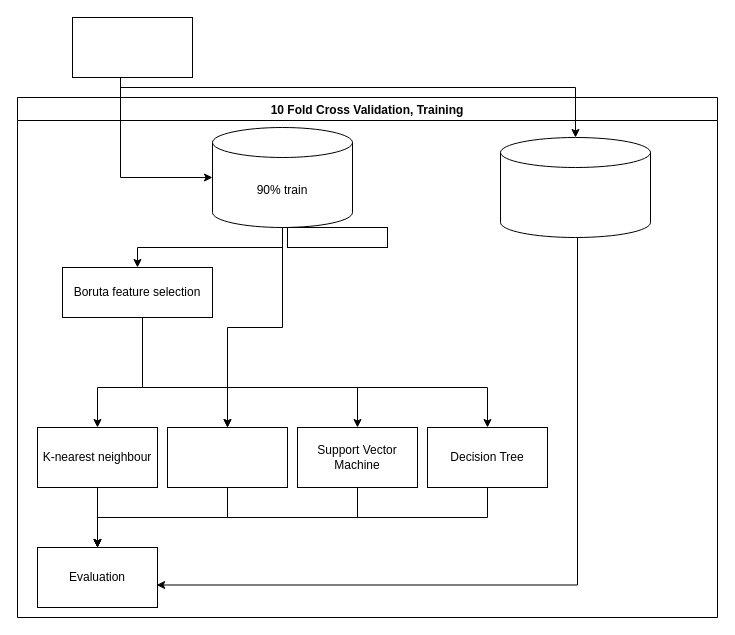
This 735x635 diagram has some shape labels left out. The shapes that lost their labels are listed below. From the top down, each one's centre as x and y in pixels, then its label:
point 132,47: Final data
point 575,187: 10% validation
point 337,237: 48 variables
point 227,457: Random Forest
